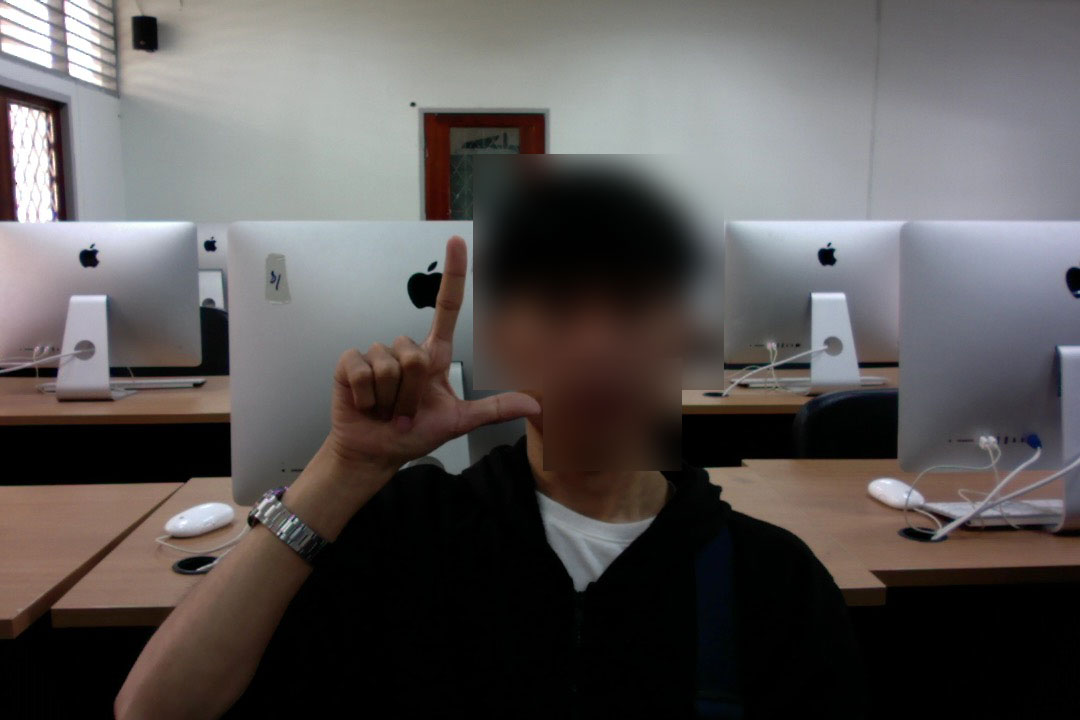lor: (296, 232, 549, 456)
